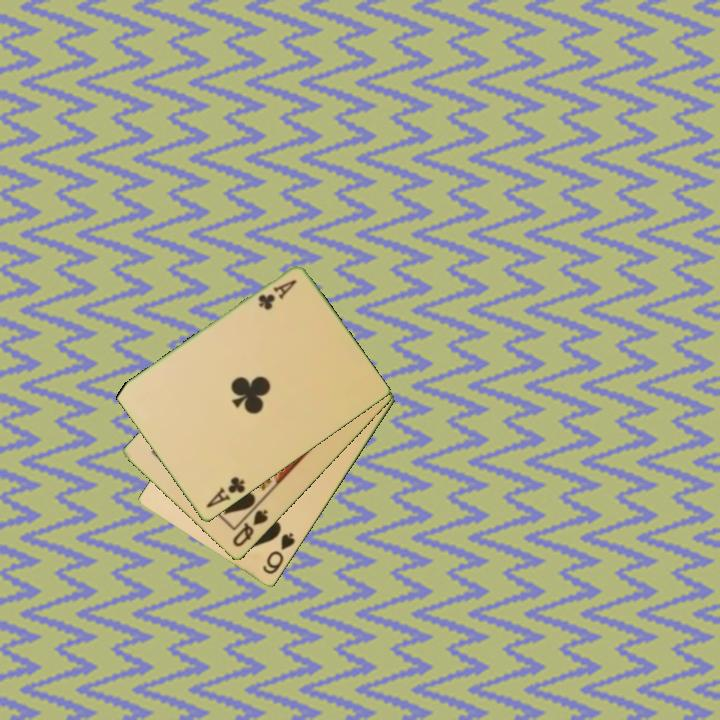6s: (259, 529, 298, 578)
Ac: (203, 473, 248, 511), (254, 276, 299, 314)
Qs: (229, 506, 271, 550)
